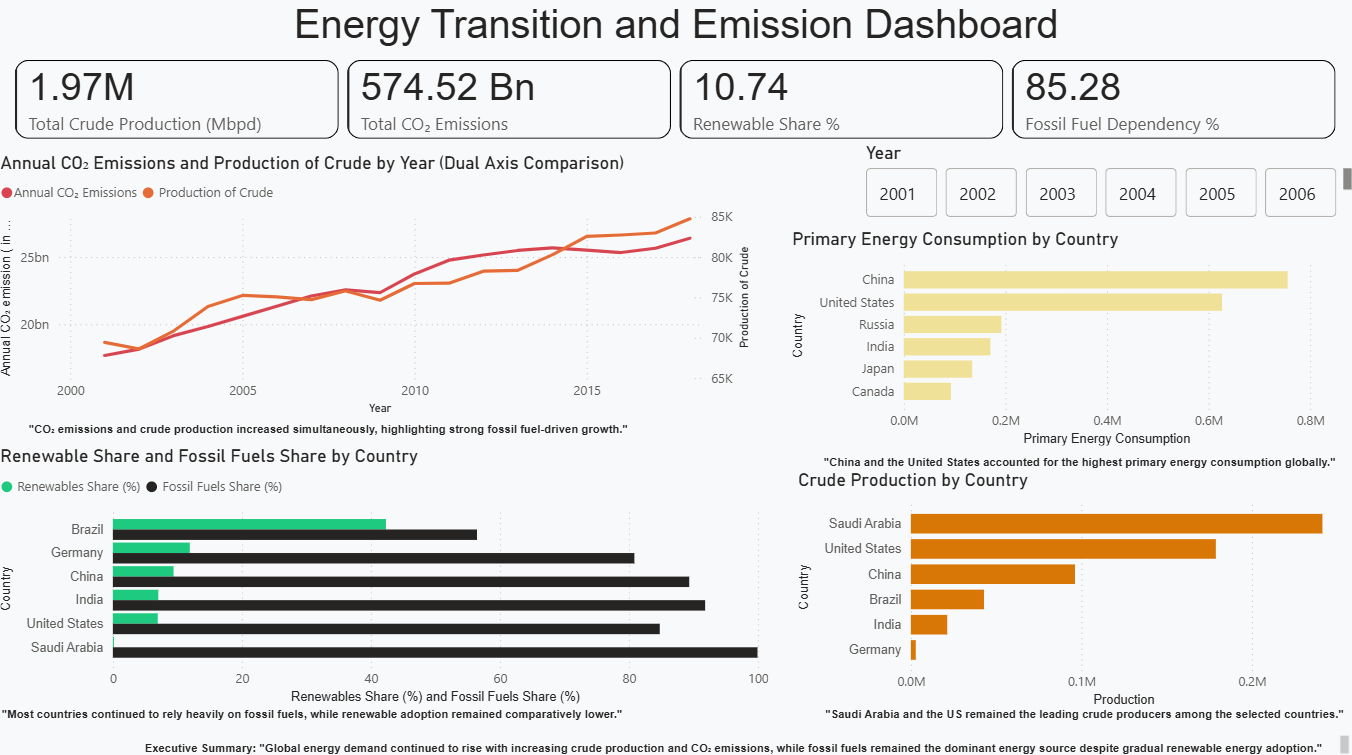

This screenshot's page, from the dashboard's own definition file:
{"tool":"powerbi","page":{"name":"Page 2","canvas":[1280,720],"ordinal":1},"visuals":[{"type":"clusteredBarChart","title":" Renewable Share and Fossil Fuels Share by Country","fields":{"Category":["energy consumption.country"],"Y":["Avg(energy consumption.renewables)","Avg(energy consumption.fossil fuels)"]},"box":[0,422.5,731,247.9],"z":0},{"type":"advancedSlicerVisual","fields":{"Values":["energy consumption.year"]},"box":[812.7,138,466.2,76.1],"z":1000},{"type":"lineChart","title":"Annual CO₂ Emissions and  Production of Crude by Year (Dual Axis Comparison)","fields":{"Category":["energy co2 emission growth.year"],"Y":["Sum(energy consumption.Annual CO2 emissions)"],"Y2":["Sum(energy crude_production.Production)"]},"box":[0,146.6,714.2,251.8],"z":2000},{"type":"clusteredBarChart","title":"Crude Production by Country","fields":{"Category":["energy crude_production.Country"],"Y":["Sum(energy crude_production.Production)"]},"box":[749.3,445.1,529.6,228.2],"z":3000},{"type":"cardVisual","fields":{"Data":["energy crude_production.Total Crude Production","energy co2.Total CO2 Emissions (Bn)","energy consumption.Renewable Share","energy consumption.Fossil Fuel Dependency"]},"box":[1.4,43.7,1277.5,108.5],"z":4000},{"type":"clusteredBarChart","fields":{"Category":["energy consumption.country"],"Y":["Sum(energy consumption.Primary energy consumption)"]},"box":[743.7,218.3,509.9,209.9],"z":5000},{"type":"textbox","box":[0,0,1279.6,59.3],"z":6000},{"type":"textbox","box":[26.3,392.2,613.9,68.9],"z":7000},{"type":"textbox","box":[773.2,422.5,507,54.9],"z":8000},{"type":"textbox","box":[1.4,659.2,712.7,31],"z":9000},{"type":"textbox","box":[774.6,659.2,501.4,31],"z":10000},{"type":"textbox","box":[135.2,690.1,1140.8,29.6],"z":11000}]}

Visuals, with their boxes in screenshot pixels (x1, y1, x2, y2), scaled from the page's 1280x720 canvas onto the 1352x755 screenshot:
" Renewable Share and Fossil Fuels Share by Country" clusteredBarChart: [0,443,772,703]
advancedSlicerVisual - energy consumption.year: [858,145,1351,225]
"Annual CO₂ Emissions and  Production of Crude by Year (Dual Axis Comparison)" lineChart: [0,154,754,418]
"Crude Production by Country" clusteredBarChart: [791,467,1351,706]
cardVisual - energy crude_production.Total Crude Production x energy co2.Total CO2 Emissions (Bn): [1,46,1351,160]
clusteredBarChart - energy consumption.country x Sum(energy consumption.Primary energy consumption): [786,229,1324,449]
textbox: [0,0,1351,62]
textbox: [28,411,676,484]
textbox: [817,443,1351,501]
textbox: [1,691,754,724]
textbox: [818,691,1348,724]
textbox: [143,724,1348,754]
